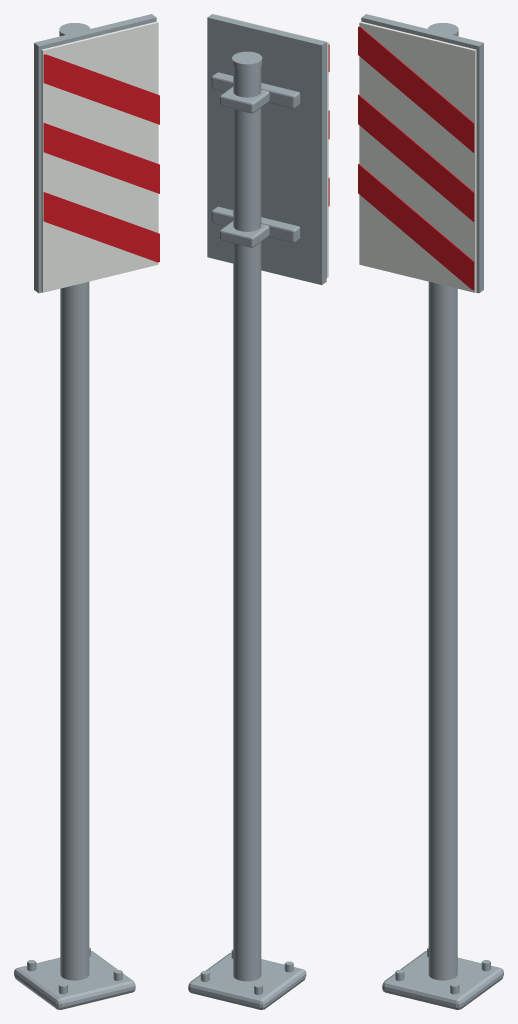
File: DS_Sign_RailwayDist3_L.glb
The picture shows the model from 3 angles, left to right: view 1: azimuth 30°, elevation 25°; view 2: azimuth 150°, elevation 25°; view 3: azimuth 330°, elevation 25°; orthographic projection. The views are drawn at different scales.
Visible parts, largest first — view 1: Post.007, Face_Field.005, BasePlate.007, Stripe_1.002, Stripe_0.003, Stripe_2.001, Plate_Back.010; view 2: Post.007, Plate_Back.010, BasePlate.007, RearRail.016, RearRail.015, Face_Field.005, PostClamp.016, PostClamp.015, PostCap.007; view 3: Post.007, Face_Field.005, Stripe_1.002, Stripe_2.001, Stripe_0.003, BasePlate.007, Plate_Back.010.
Part boxes in pixels (x1=…): Post.007: x1=60, y1=281, x2=89, y2=980; Face_Field.005: x1=41, y1=21, x2=158, y2=292; BasePlate.007: x1=14, y1=951, x2=135, y2=1009; Stripe_1.002: x1=43, y1=123, x2=159, y2=193; Stripe_0.003: x1=43, y1=192, x2=159, y2=262; Stripe_2.001: x1=43, y1=54, x2=159, y2=124; Plate_Back.010: x1=34, y1=14, x2=156, y2=293; Post.007: x1=233, y1=66, x2=261, y2=981; Plate_Back.010: x1=207, y1=14, x2=326, y2=284; BasePlate.007: x1=188, y1=952, x2=306, y2=1009; RearRail.016: x1=211, y1=72, x2=300, y2=108; RearRail.015: x1=211, y1=206, x2=300, y2=242; Face_Field.005: x1=216, y1=14, x2=328, y2=277; PostClamp.016: x1=220, y1=86, x2=269, y2=113; PostClamp.015: x1=220, y1=221, x2=269, y2=247; PostCap.007: x1=232, y1=51, x2=262, y2=69; Post.007: x1=428, y1=281, x2=457, y2=980; Face_Field.005: x1=359, y1=21, x2=476, y2=292; Stripe_1.002: x1=358, y1=94, x2=474, y2=221; Stripe_2.001: x1=358, y1=26, x2=474, y2=152; Stripe_0.003: x1=358, y1=163, x2=474, y2=290; BasePlate.007: x1=382, y1=951, x2=503, y2=1009; Plate_Back.010: x1=361, y1=14, x2=483, y2=293.
Size of the model in its own units: 0.357 by 2.81 by 0.262.
